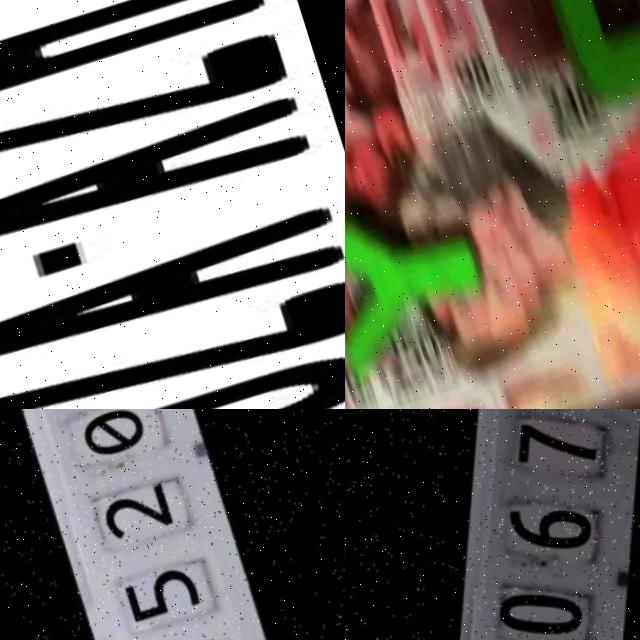0: (470, 560, 602, 640), (49, 409, 173, 487)
2: (73, 464, 198, 572)
5: (100, 546, 221, 640)
6: (0, 0, 263, 84), (481, 478, 612, 591)
7: (493, 409, 616, 505)
9: (510, 409, 622, 418)
A: (0, 191, 345, 409), (0, 97, 317, 319)
C: (522, 0, 640, 103)
H: (0, 0, 297, 172)
U: (0, 331, 345, 409)
Y: (345, 173, 495, 373)
Z: (0, 20, 300, 247), (0, 272, 345, 409)
